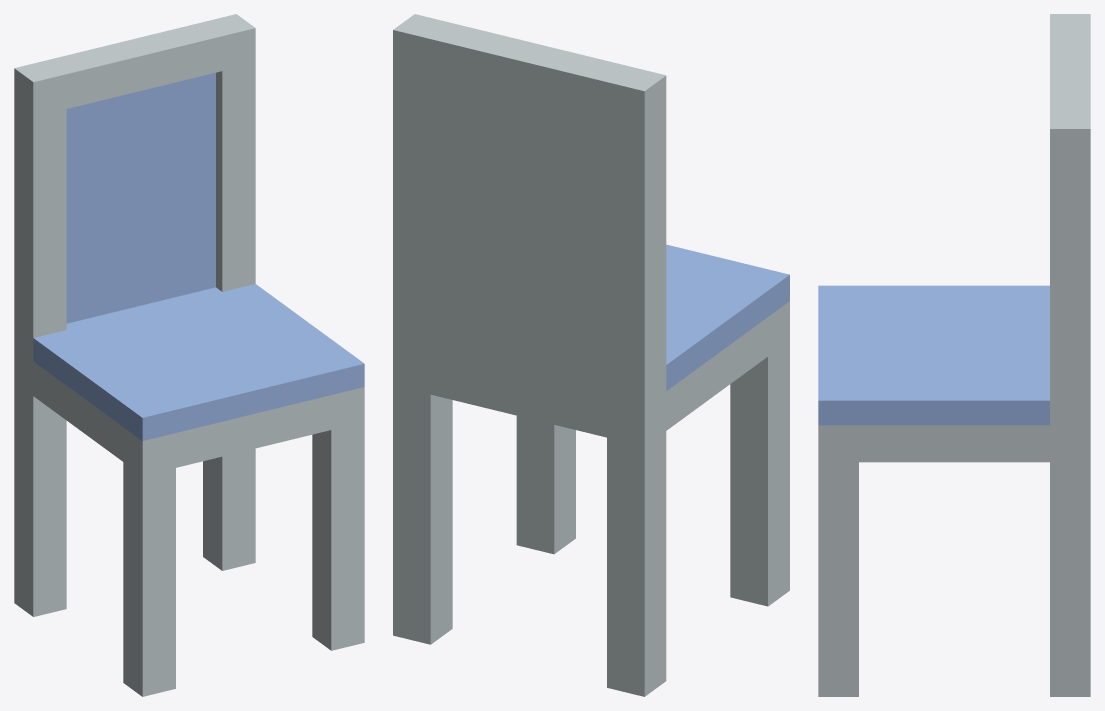
The model's file is chairModernCushion.glb.
3 views of the same model, side by side, from view 1: azimuth 30°, elevation 25°; view 2: azimuth 150°, elevation 25°; view 3: azimuth 270°, elevation 25° (orthographic). The views are drawn at different scales.
Parts seen in each view (by area): view 1: chairModernCushion(Clone); view 2: chairModernCushion(Clone); view 3: chairModernCushion(Clone).
Boxes of the visible parts, x1,y1,x2,y2 form: chairModernCushion(Clone): (14,14,364,696); chairModernCushion(Clone): (393,14,789,696); chairModernCushion(Clone): (818,14,1090,696).
Size of the model in its own units: 0.2 by 0.46 by 0.2.
